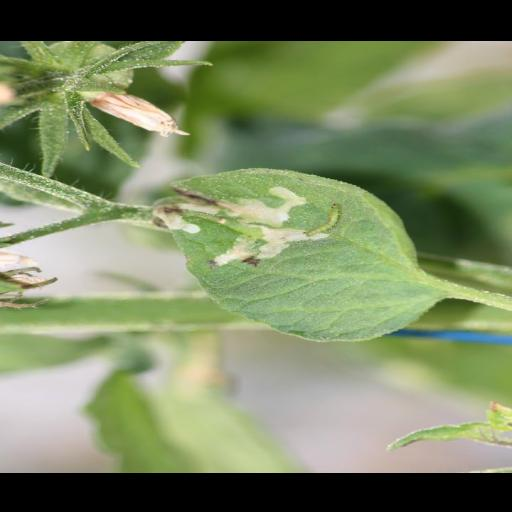Leaf Miner: (152, 162, 450, 344)
